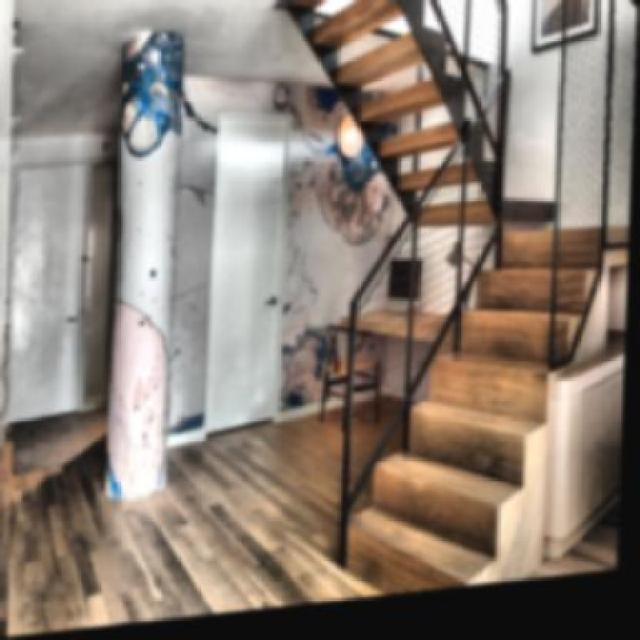stair: (378, 217, 578, 605)
